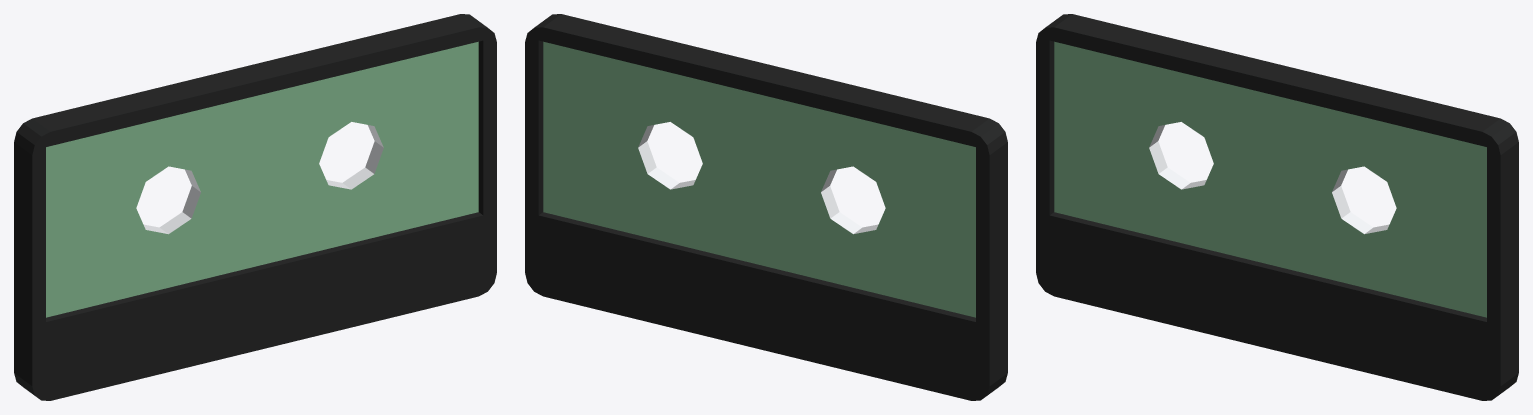
Rendered from Casette_05.fbx.
3 renders of one model, left to right at view 1: azimuth 30°, elevation 25°; view 2: azimuth 150°, elevation 25°; view 3: azimuth 330°, elevation 25°, orthographic.
Visible parts, largest first — view 1: Plane.070; view 2: Plane.070; view 3: Plane.070.
Part boxes in pixels (bbox=[...]): Plane.070: bbox=[14, 14, 496, 400]; Plane.070: bbox=[525, 14, 1007, 400]; Plane.070: bbox=[1036, 14, 1518, 400].
Size of the model in its own units: 0.2966 by 0.0202 by 0.1642.
